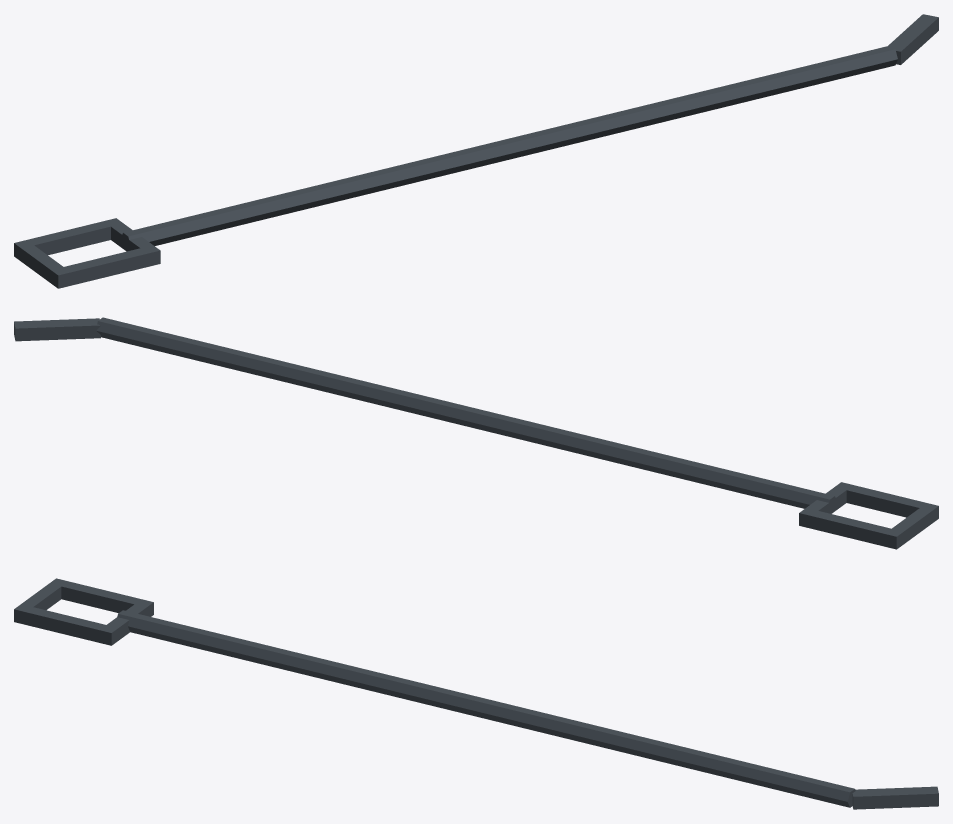
The model's file is GT_FirePoker_01.glb.
3 renders of one model, top to bottom at view 1: azimuth 30°, elevation 25°; view 2: azimuth 150°, elevation 25°; view 3: azimuth 330°, elevation 25°, orthographic. The views are drawn at different scales.
Parts seen in each view (by area): view 1: GT_FirePoker_01; view 2: GT_FirePoker_01; view 3: GT_FirePoker_01.
Boxes of the visible parts, x1,y1,x2,y2 form: GT_FirePoker_01: (14,14,938,288); GT_FirePoker_01: (14,317,938,549); GT_FirePoker_01: (14,578,938,809).
Bounding box in the file's own units: 0.7234 × 0.0121 × 0.0699.
Materials: 1 (1 with a texture image).
